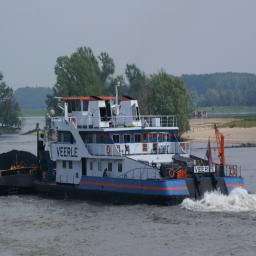tugboat: (33, 79, 254, 212)
